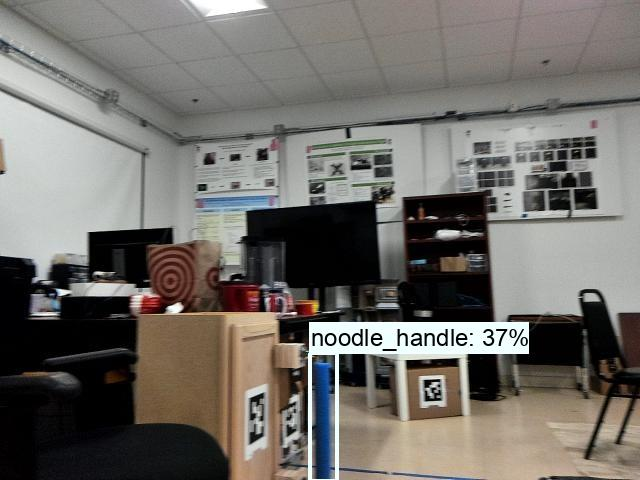noodle_handle: (306, 357, 336, 480)
